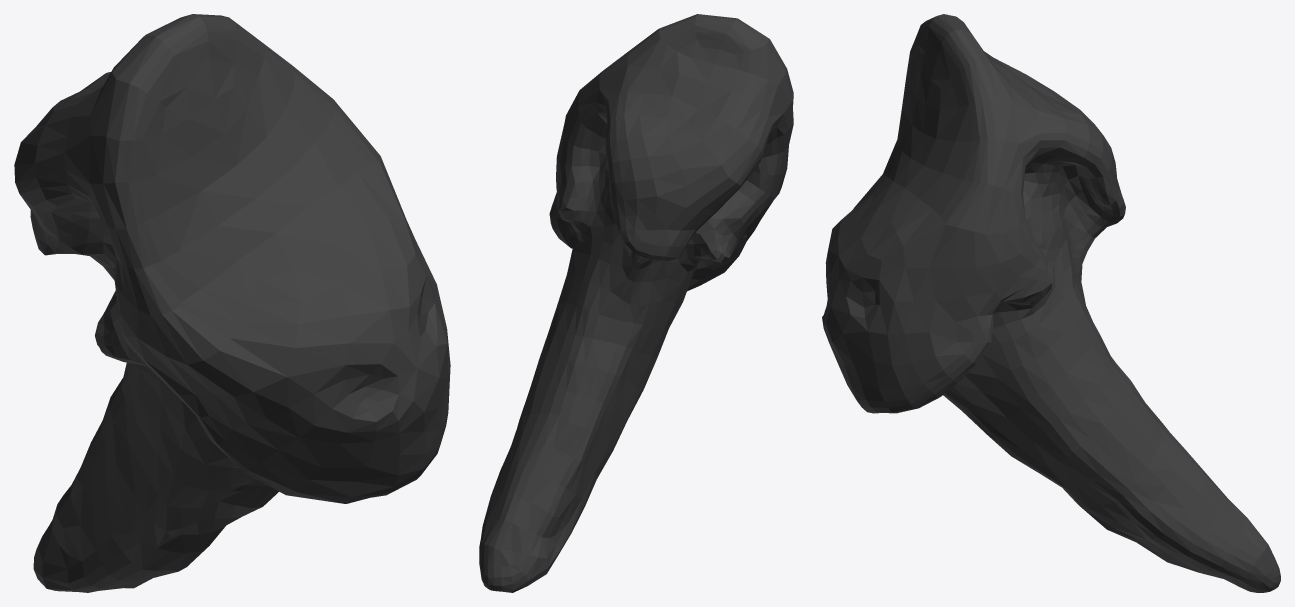
The model's file is Distal_phalange_3.glb.
The picture shows the model from 3 angles, left to right: view 1: azimuth 30°, elevation 25°; view 2: azimuth 150°, elevation 25°; view 3: azimuth 270°, elevation 25°; orthographic projection. The views are drawn at different scales.
Visible parts, largest first — view 1: Distal_phalange_3; view 2: Distal_phalange_3; view 3: Distal_phalange_3.
Boxes of the visible parts, x1,y1,x2,y2 form: Distal_phalange_3: (14,14,450,592); Distal_phalange_3: (479,14,793,592); Distal_phalange_3: (822,14,1280,592).
Bounding box in the file's own units: 0.0977 × 0.1987 × 0.1558.
1 material, 1 textured.
